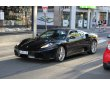License Plates: (17, 48, 32, 53)
